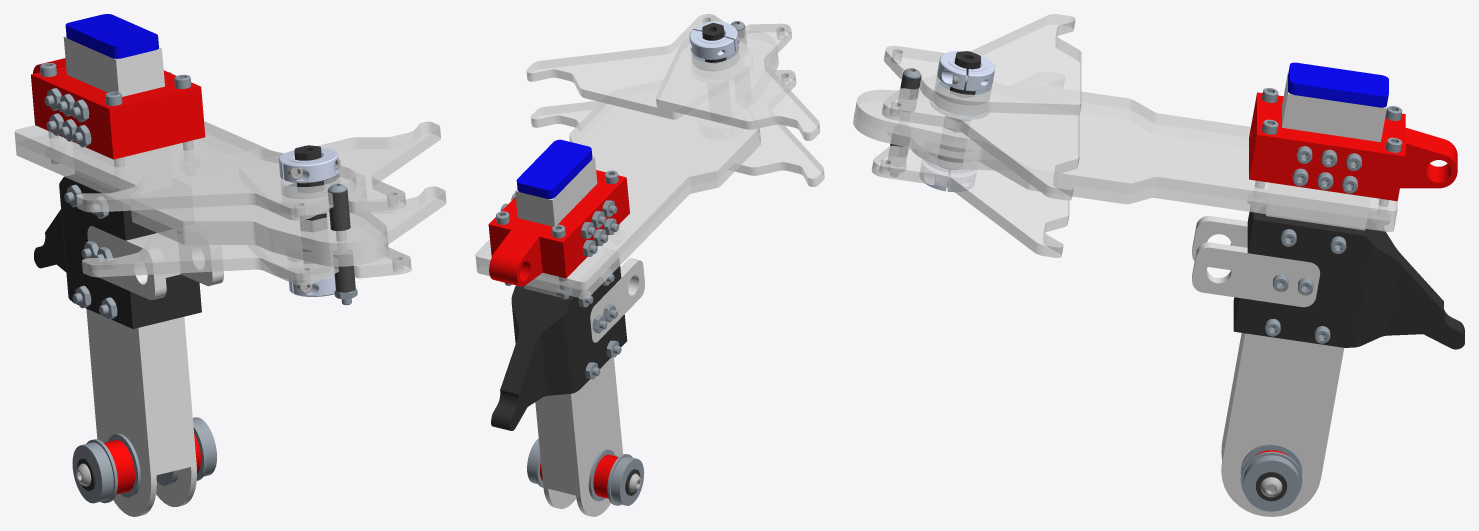
3 views of the same model, side by side, from view 1: azimuth 30°, elevation 25°; view 2: azimuth 150°, elevation 25°; view 3: azimuth 270°, elevation 25° (orthographic). The views are drawn at different scales.
Parts seen in each view (by area): view 1: Barb Body (×2), Barb Finger (×4), Arm, Arm Wart, Barb Mount, Arm Elastic Mount (×2), .5" Hex ID 1.125" OD Flanged Bearing (217-2734) (×3), arm crush block, 1/2" Hex High Strength Clamping Shaft Collar (217-4106) (×2), Shaft (×2), Arm Spacers, Nylon Spacer; view 2: Barb Body (×2), Barb Finger (×4), Arm, Arm Wart, Barb Mount, arm crush block, .5" Hex ID 1.125" OD Flanged Bearing (217-2734) (×3), Arm Elastic Mount, 1/2" Hex High Strength Clamping Shaft Collar (217-4106), Arm Spacers, Shaft; view 3: Barb Body (×2), Barb Finger (×4), Arm, Arm Wart, Barb Mount, Arm Elastic Mount (×2), arm crush block, .5" Hex ID 1.125" OD Flanged Bearing (217-2734) (×2), Shaft (×2), 1/2" Hex High Strength Clamping Shaft Collar (217-4106) (×2).
Part boxes in pixels (<box>): Barb Body (×2): <box>14,121,388,266</box>; Barb Finger (×4): <box>76,121,446,285</box>; Arm: <box>63,36,196,516</box>; Arm Wart: <box>34,174,201,328</box>; Barb Mount: <box>31,58,205,159</box>; Arm Elastic Mount (×2): <box>87,226,223,299</box>; .5" Hex ID 1.125" OD Flanged Bearing (217-2734) (×3): <box>72,417,216,503</box>; arm crush block: <box>65,14,158,58</box>; 1/2" Hex High Strength Clamping Shaft Collar (217-4106) (×2): <box>283,150,339,296</box>; Shaft (×2): <box>76,145,327,490</box>; Arm Spacers: <box>104,440,134,494</box>; Nylon Spacer: <box>329,202,350,230</box>; Barb Body (×2): <box>475,31,778,298</box>; Barb Finger (×4): <box>526,14,824,186</box>; Arm: <box>515,156,622,516</box>; Arm Wart: <box>491,258,627,430</box>; Barb Mount: <box>488,170,629,286</box>; arm crush block: <box>516,139,592,198</box>; .5" Hex ID 1.125" OD Flanged Bearing (217-2734) (×3): <box>527,50,739,505</box>; Arm Elastic Mount: <box>590,258,644,342</box>; 1/2" Hex High Strength Clamping Shaft Collar (217-4106): <box>689,30,734,59</box>; Arm Spacers: <box>593,454,618,498</box>; Shaft: <box>702,23,726,63</box>; Barb Body (×2): <box>853,85,1397,232</box>; Barb Finger (×4): <box>871,14,1081,257</box>; Arm: <box>1221,73,1386,516</box>; Arm Wart: <box>1233,206,1464,349</box>; Barb Mount: <box>1249,92,1457,201</box>; Arm Elastic Mount (×2): <box>1192,216,1320,307</box>; arm crush block: <box>1288,62,1388,107</box>; .5" Hex ID 1.125" OD Flanged Bearing (217-2734) (×2): <box>930,81,1302,511</box>; Shaft (×2): <box>938,51,1287,501</box>; 1/2" Hex High Strength Clamping Shaft Collar (217-4106) (×2): <box>937,51,995,91</box>.
Size of the model in its own units: 0.1959 by 0.2521 by 0.3099.
